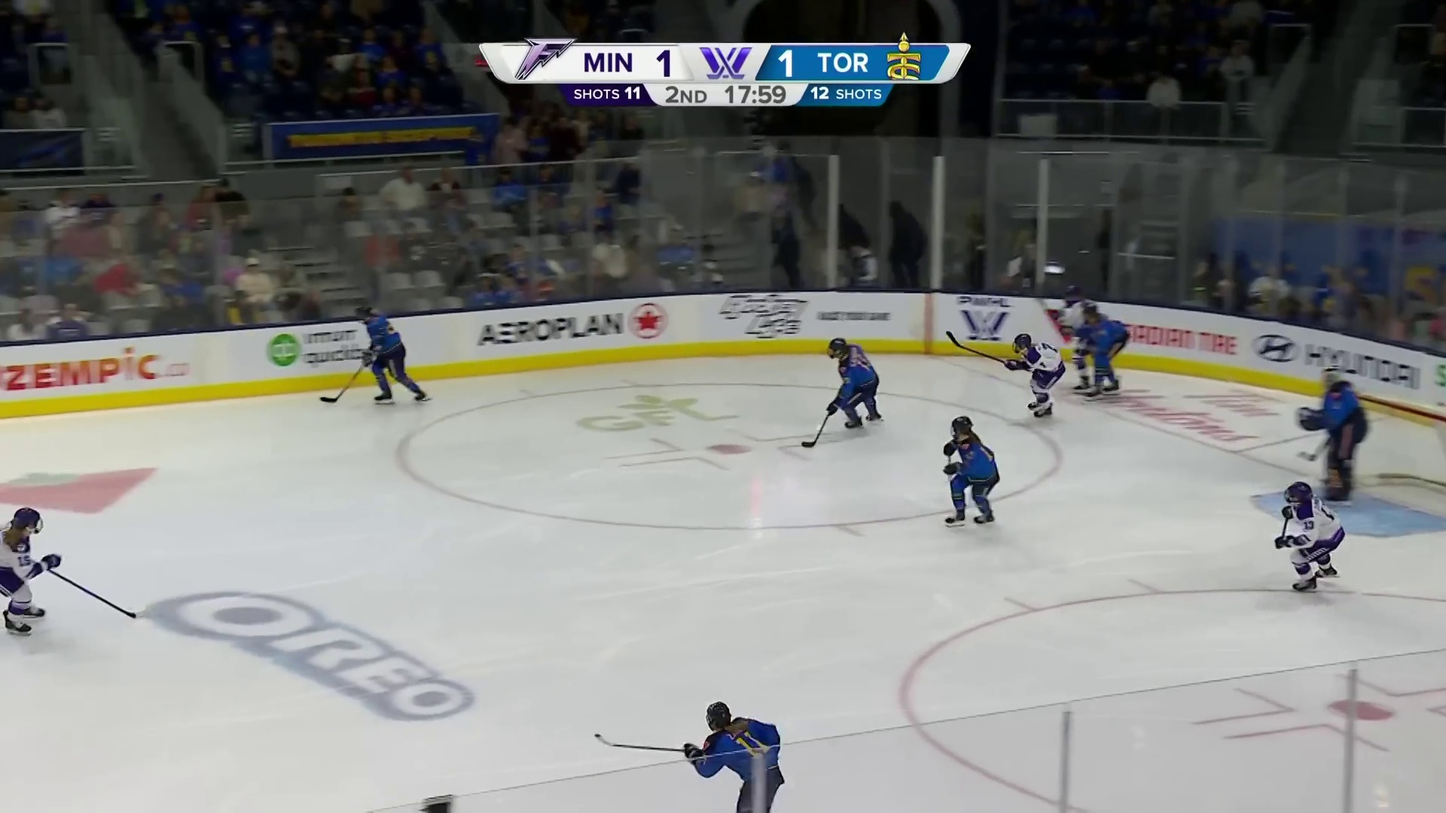player: (683, 700, 789, 812), (1273, 481, 1347, 590), (354, 306, 433, 403), (941, 416, 1003, 528), (1061, 306, 1128, 402), (1002, 333, 1067, 420), (824, 338, 886, 429), (1060, 284, 1099, 391)
referee: (1295, 366, 1367, 506)
